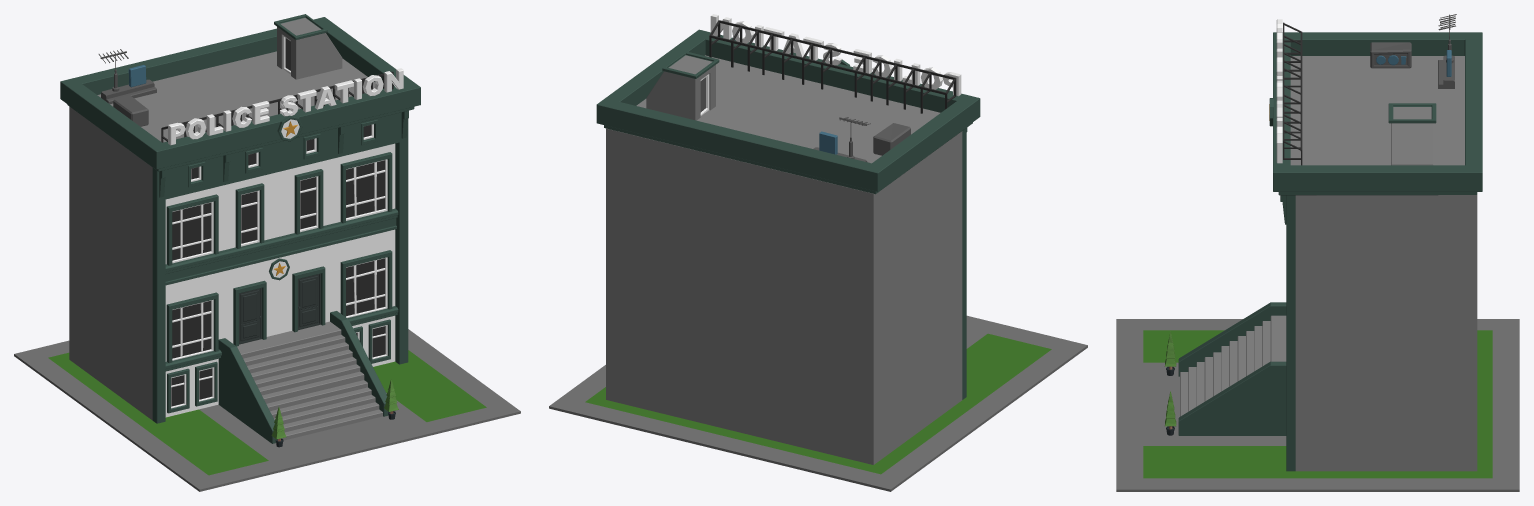
The model's file is police-station.glb.
The picture shows the model from 3 angles, left to right: view 1: azimuth 30°, elevation 25°; view 2: azimuth 150°, elevation 25°; view 3: azimuth 270°, elevation 25°; orthographic projection. The views are drawn at different scales.
Parts seen in each view (by area): view 1: policestation; view 2: policestation; view 3: policestation.
Part boxes in pixels (x1,y1,x2,y2): policestation: [14, 14, 520, 491]; policestation: [549, 14, 1087, 491]; policestation: [1116, 14, 1519, 491].
Size of the model in its own units: 15 by 13.83 by 15.
1 material, 1 textured.
